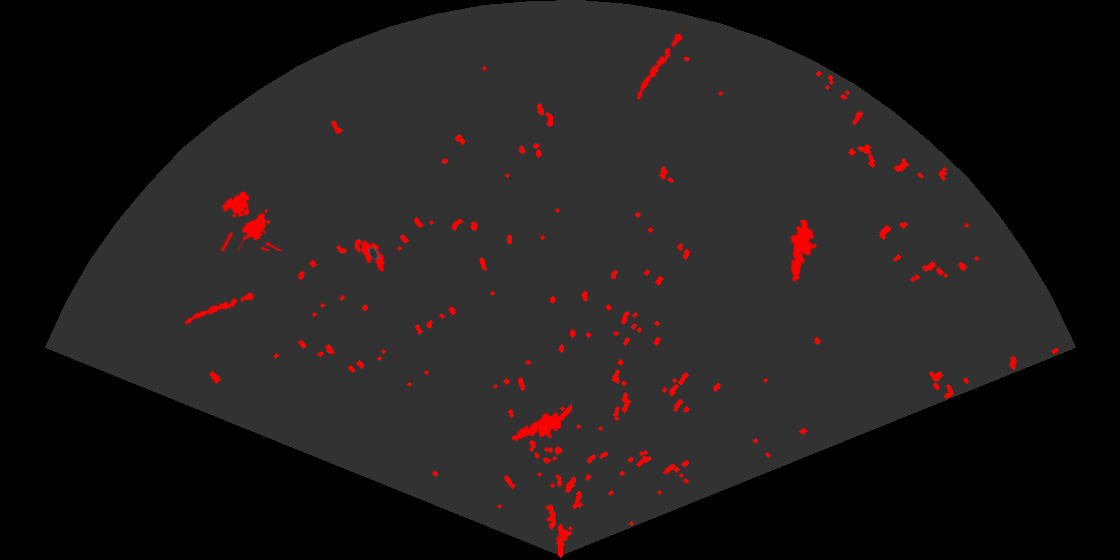AUV: (359, 239, 386, 274)
cage: (219, 190, 284, 251)
chain: (635, 23, 688, 101), (182, 291, 256, 326)
frogman: (510, 402, 572, 443), (789, 220, 819, 284)
